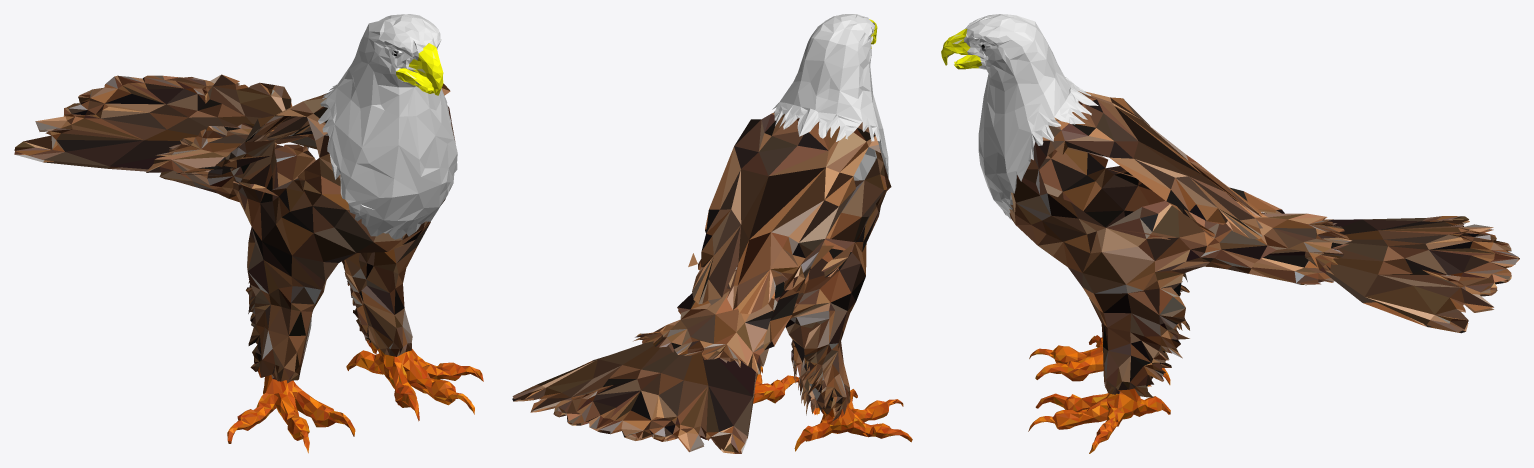
The model's file is Cuerpo3.obj.
3 views of the same model, side by side, from view 1: azimuth 30°, elevation 25°; view 2: azimuth 150°, elevation 25°; view 3: azimuth 270°, elevation 25° (orthographic). The views are drawn at different scales.
Parts seen in each view (by area): view 1: Cuerpo2; view 2: Cuerpo2; view 3: Cuerpo2.
Part boxes in pixels (x1,y1,x2,y2): Cuerpo2: (14, 14, 483, 453); Cuerpo2: (512, 14, 912, 453); Cuerpo2: (941, 14, 1519, 453).
Bounding box in the file's own units: 9.32 × 14.25 × 19.5.
5 materials, 5 textured.
